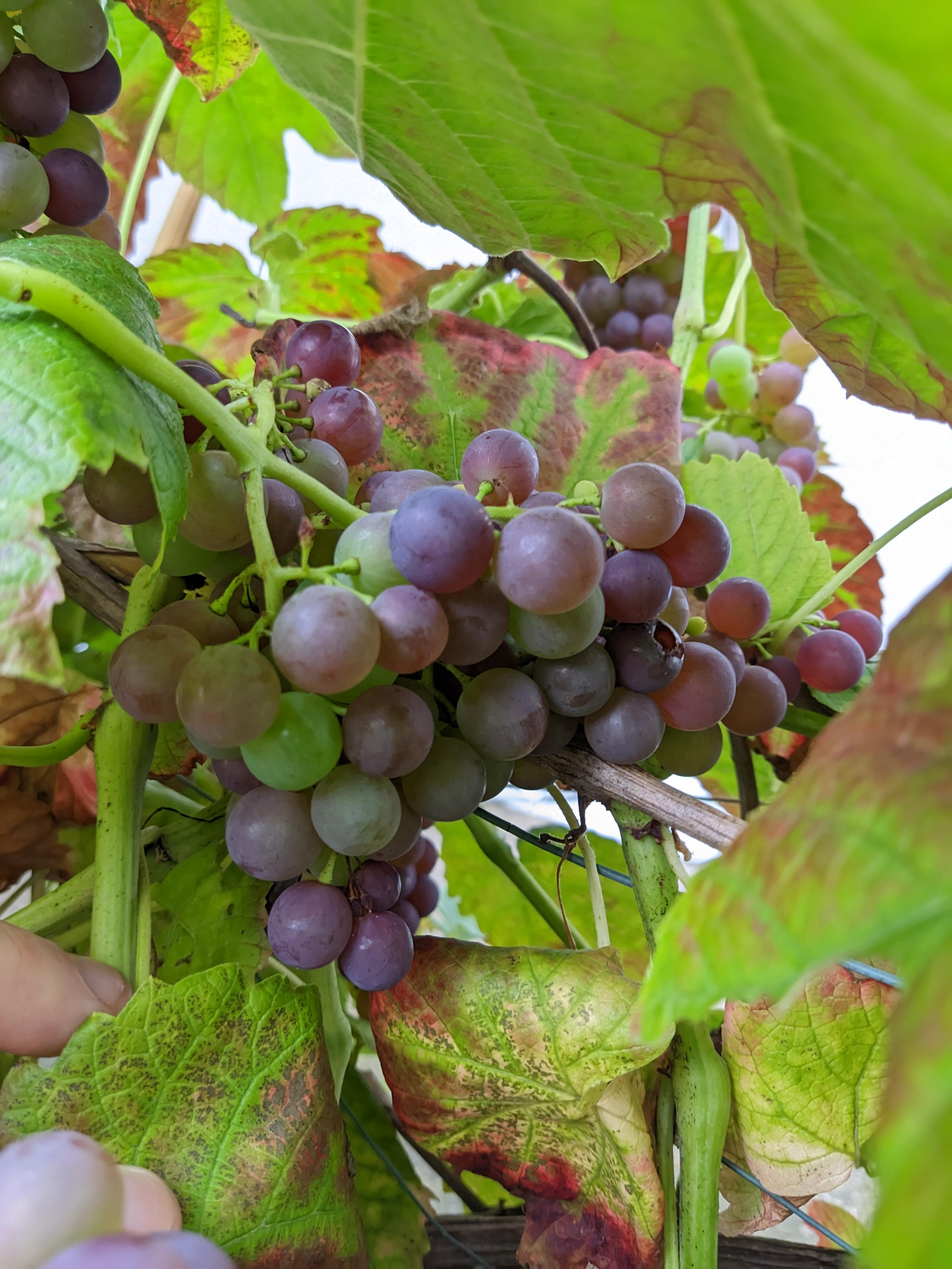Grape Unripe: (82, 324, 882, 990), (0, 0, 135, 243), (696, 325, 825, 493), (574, 217, 686, 370)
